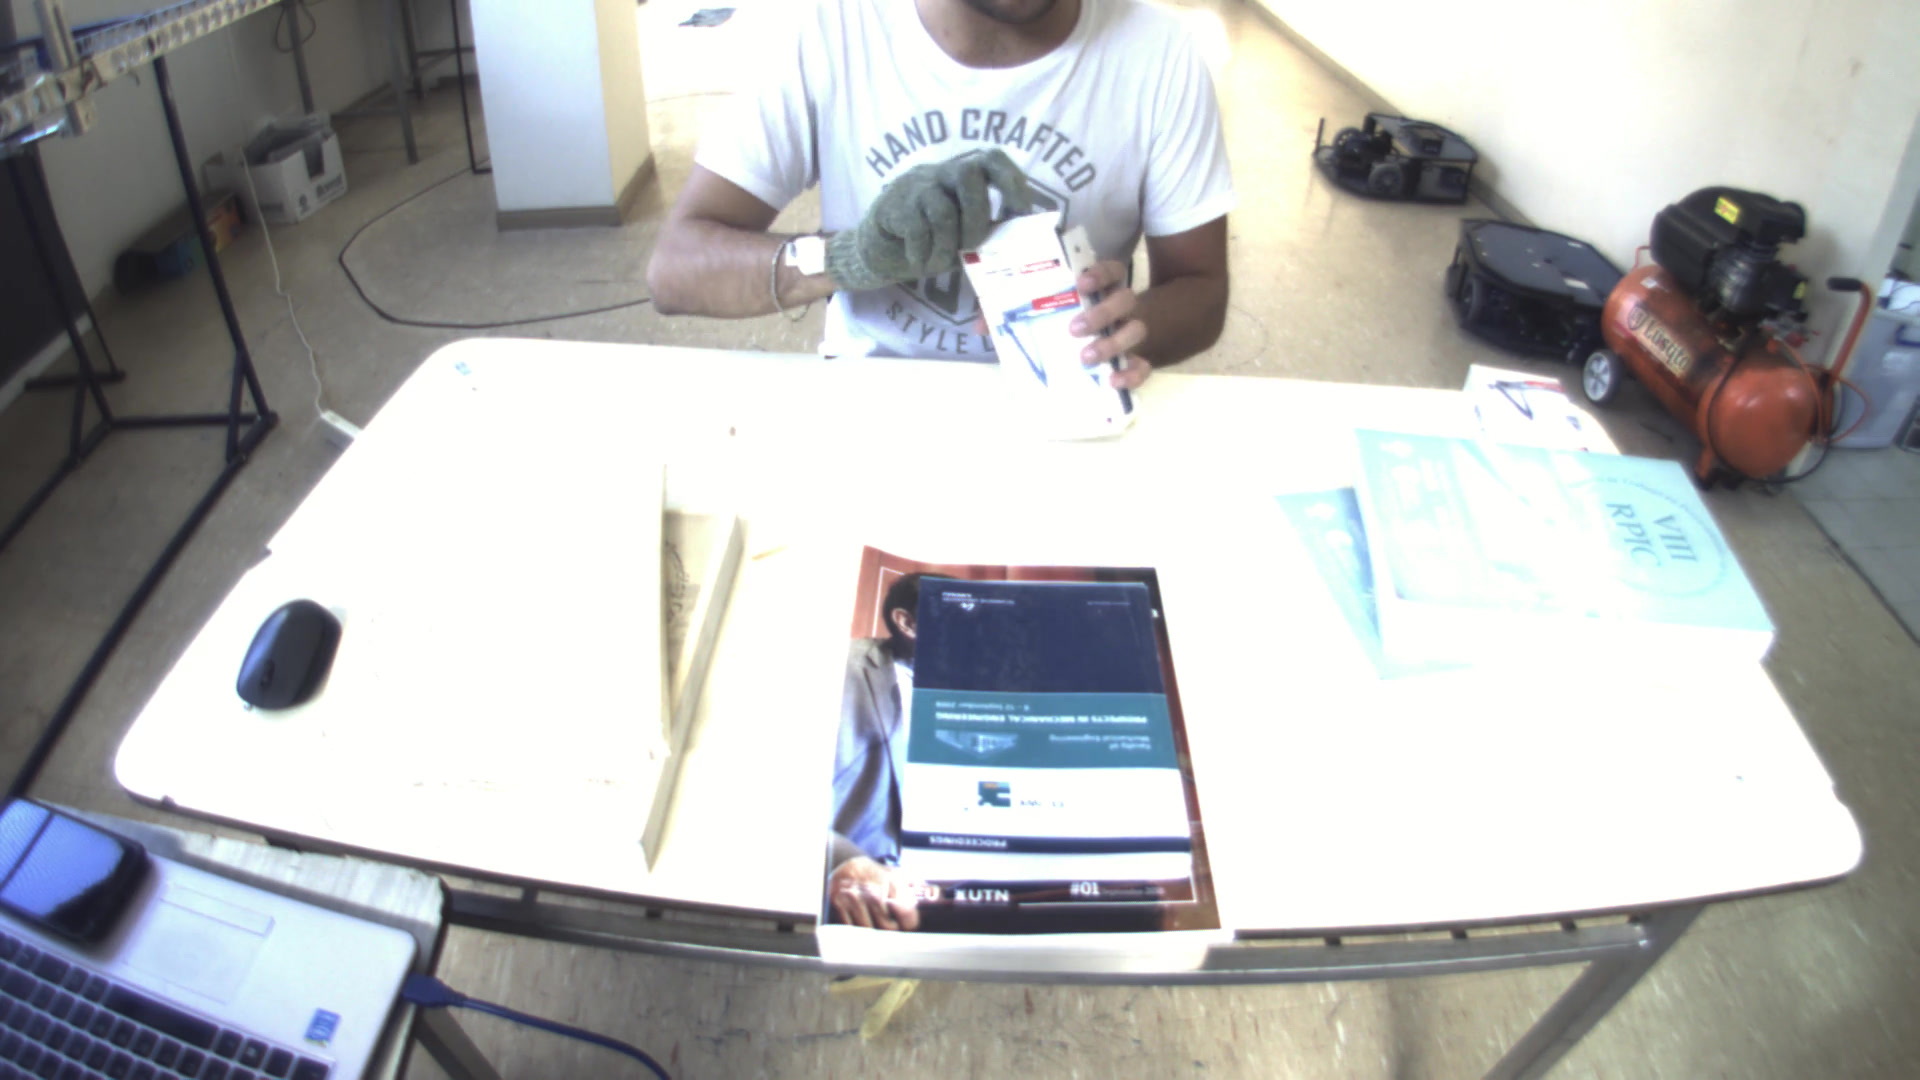hand: (804, 141, 1043, 295), (1058, 251, 1160, 389)
